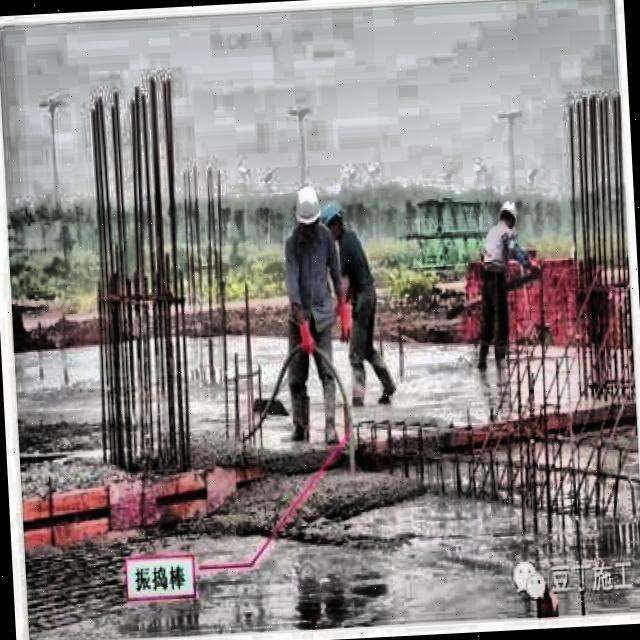helmet: (293, 182, 323, 236), (320, 194, 346, 244), (498, 197, 520, 236)
